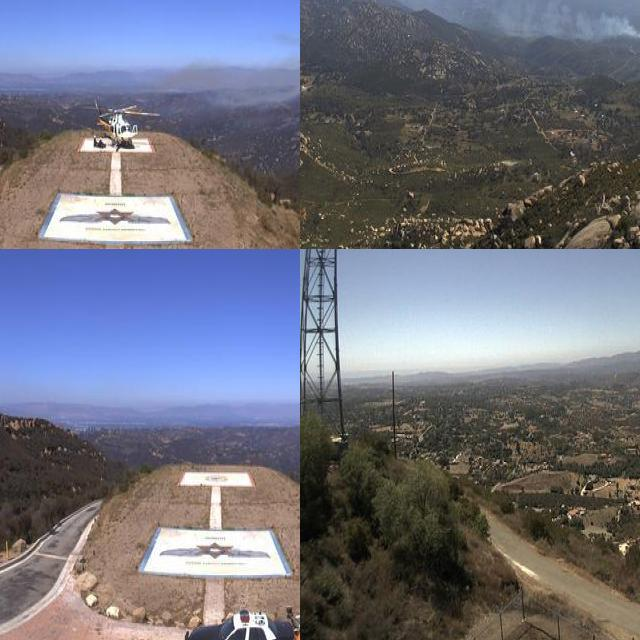smoke: (458, 0, 640, 45), (240, 23, 300, 123)
